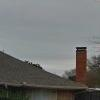Chimney: (58, 38, 96, 85)
